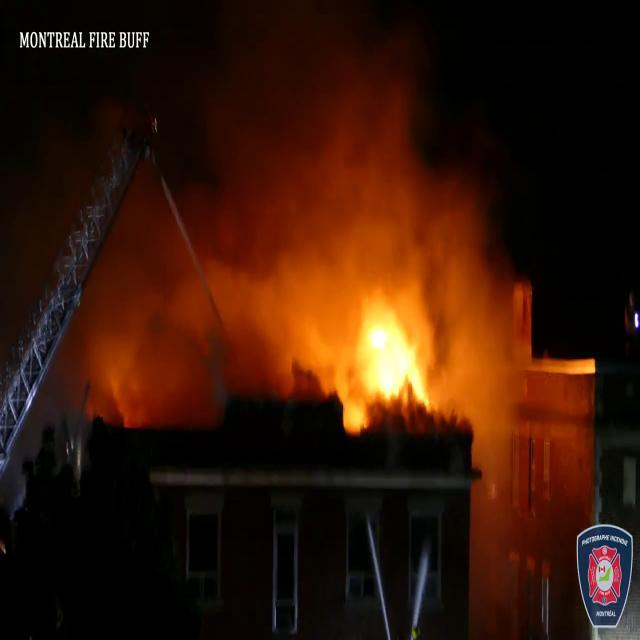Fire: (338, 291, 438, 425)
Smoke: (16, 0, 524, 404)
